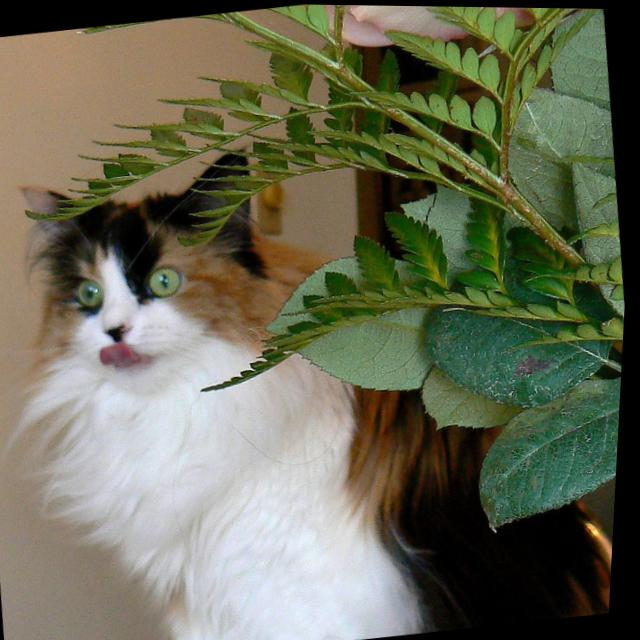animals: (12, 145, 266, 351)
